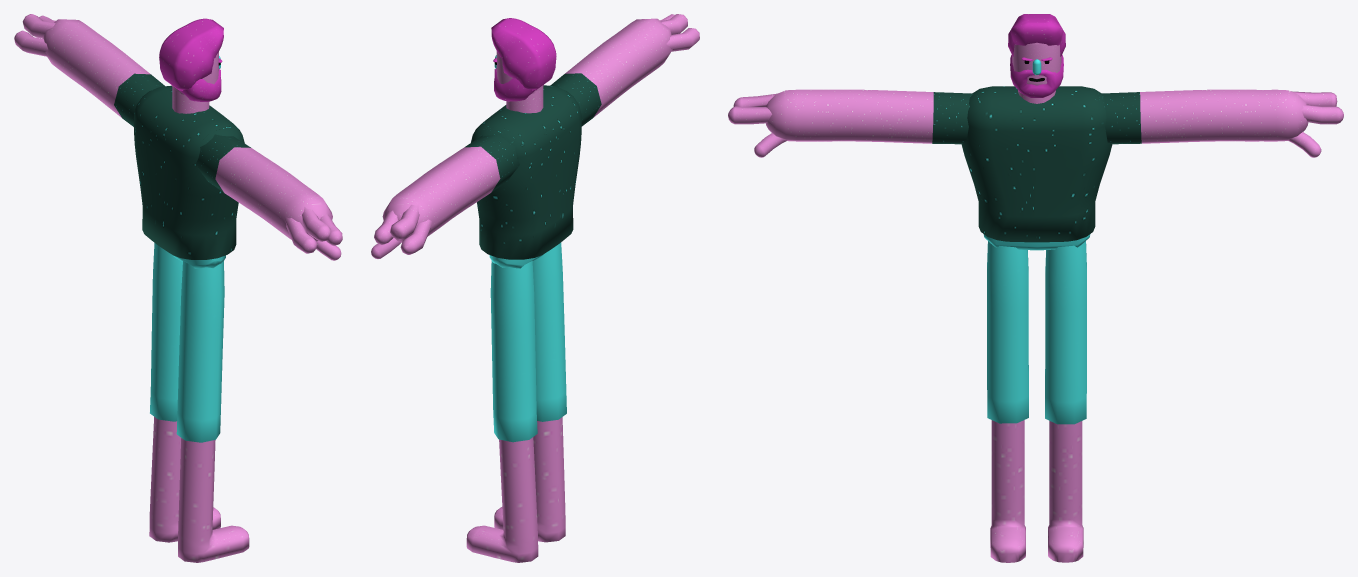
Rendered from avatars_tposing_purple_guy.glb.
3 renders of one model, left to right at view 1: azimuth 30°, elevation 25°; view 2: azimuth 150°, elevation 25°; view 3: azimuth 270°, elevation 25°, orthographic. The views are drawn at different scales.
Visible parts, largest first — view 1: mesh_070; view 2: mesh_070; view 3: mesh_070.
Boxes of the visible parts, x1,y1,x2,y2 form: mesh_070: [14, 14, 342, 562]; mesh_070: [371, 14, 699, 562]; mesh_070: [728, 14, 1343, 562].
Bounding box in the file's own units: 0.8216 × 5.3 × 5.58.
Materials: 1 (1 with a texture image).
